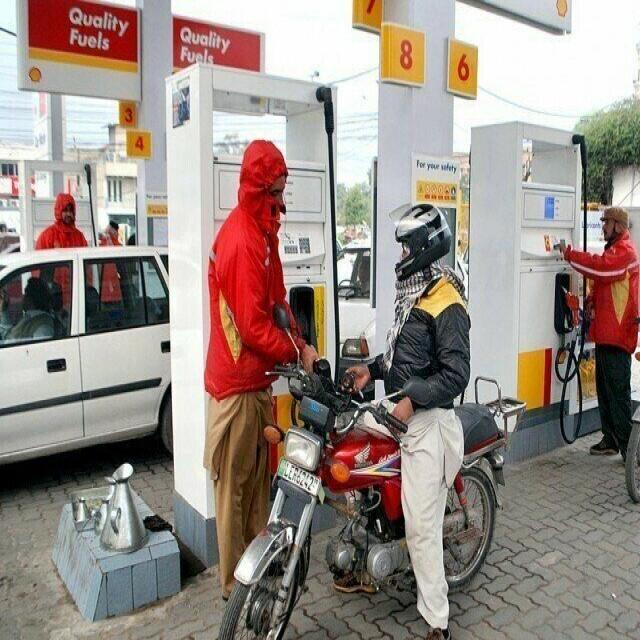helmet: (383, 196, 457, 289)
illegal_helmet: (599, 205, 631, 246)
